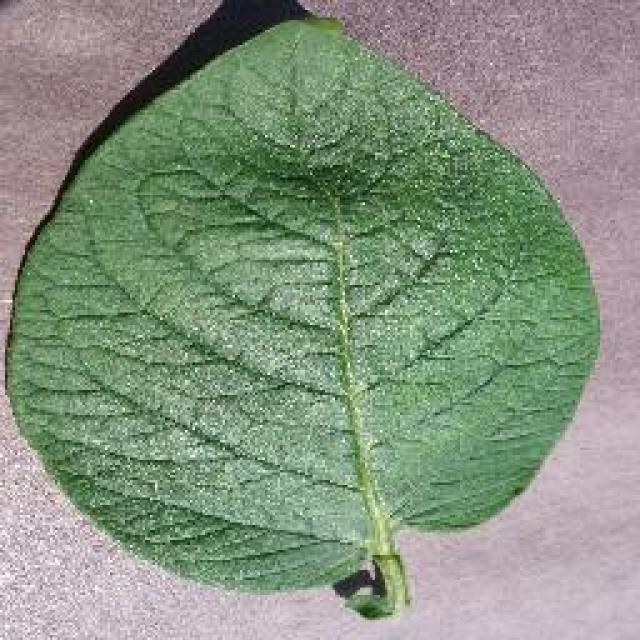healthy: (0, 5, 605, 613)
